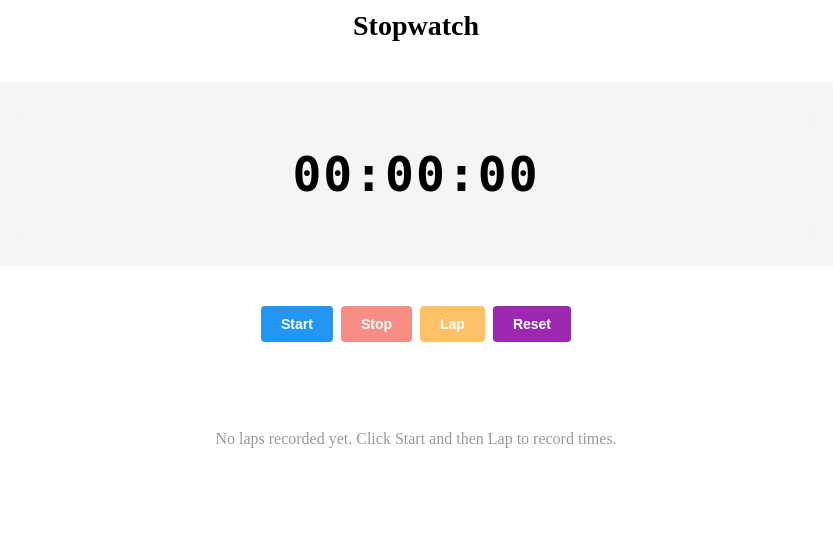
Test: Stopwatch Container Component (T053, T090) › Lap recording › should record laps while running
Click the button with test id "button-start" at (297, 324), box top-left (261, 306), bottom-right (333, 342)
Wait 100 ms
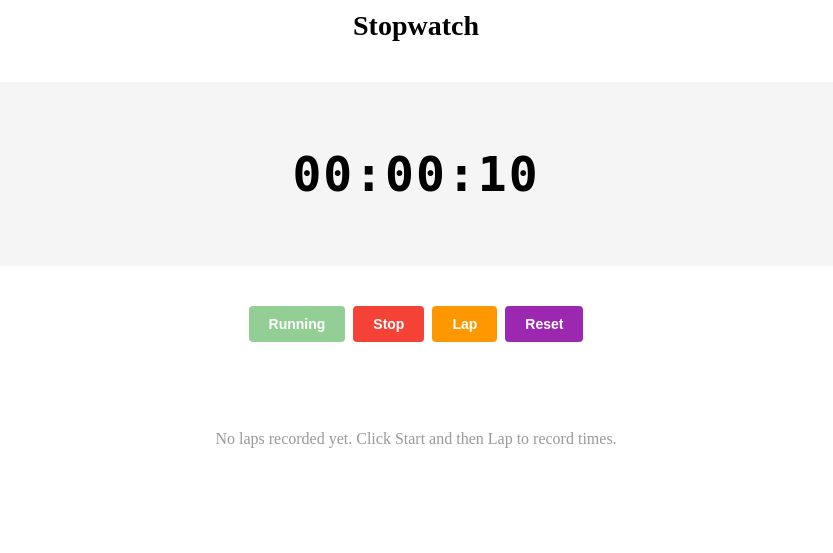
Check: the button with test id "button-start" is disabled, box top-left (248, 306), bottom-right (345, 342)
Click the button with test id "button-lap" at (465, 324), box top-left (432, 306), bottom-right (497, 342)
Wait 100 ms
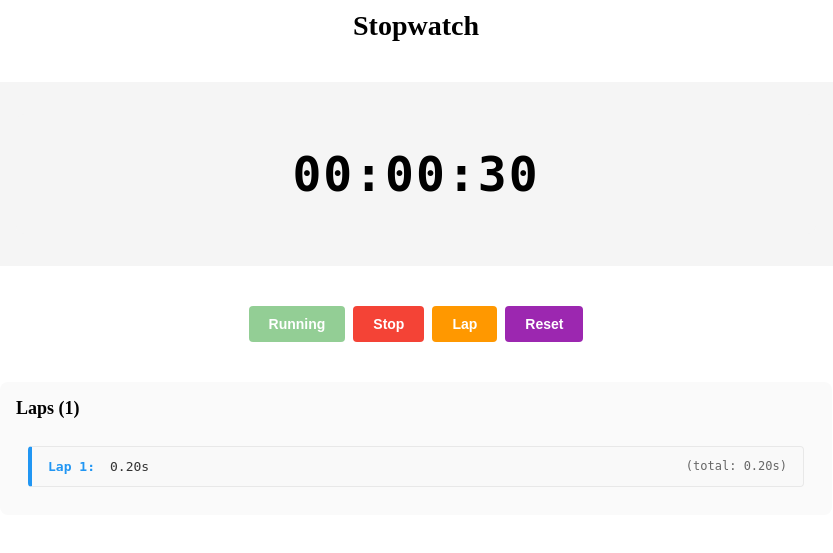
Click the button with test id "button-lap" at (465, 324), box top-left (432, 306), bottom-right (497, 342)
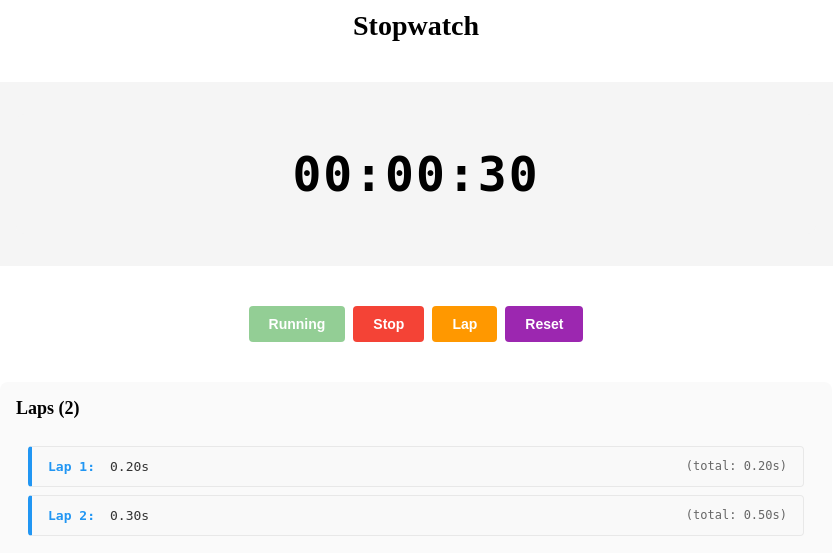
Check: the heading "Laps (2)" is shown, box top-left (16, 398), bottom-right (80, 418)
